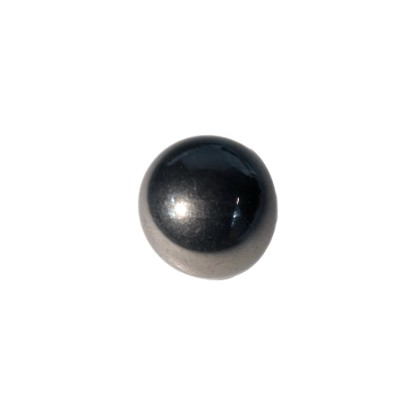ironball: (137, 134, 277, 280)
